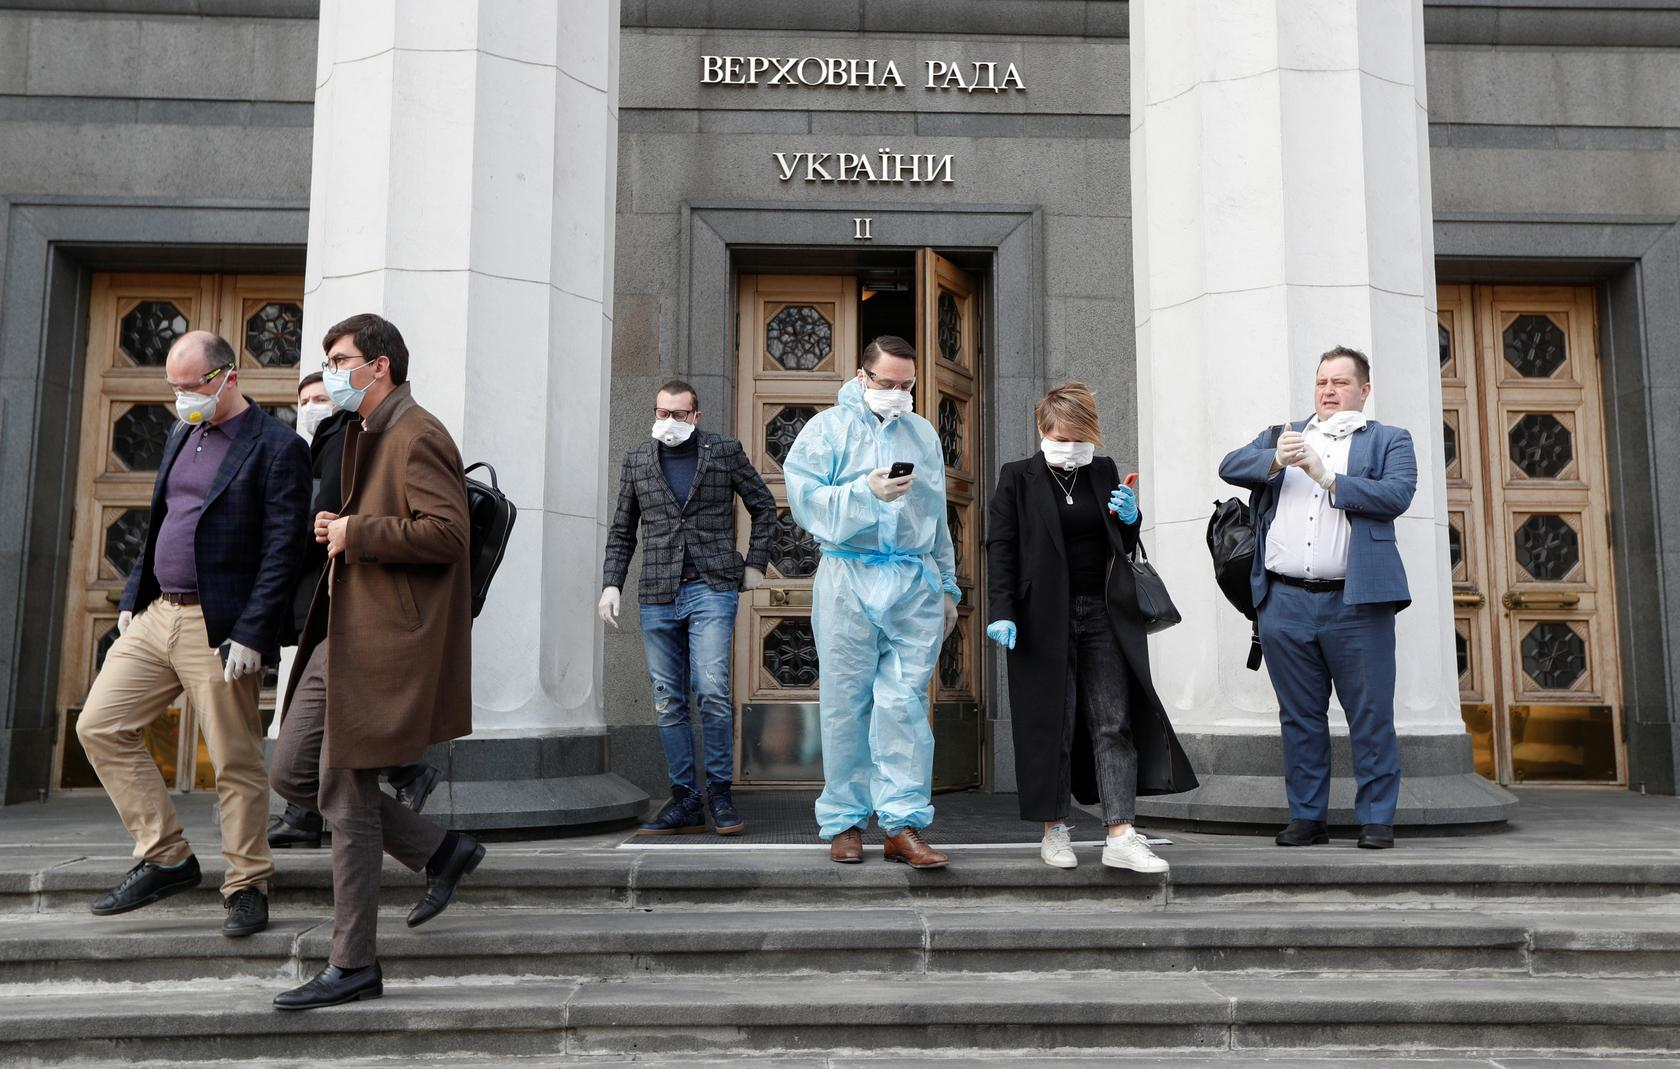mask_weared_incorrect: (1309, 354, 1371, 437)
with_mask: (313, 340, 396, 418), (164, 345, 236, 428), (645, 390, 709, 452), (1040, 411, 1102, 474), (854, 360, 920, 419)
